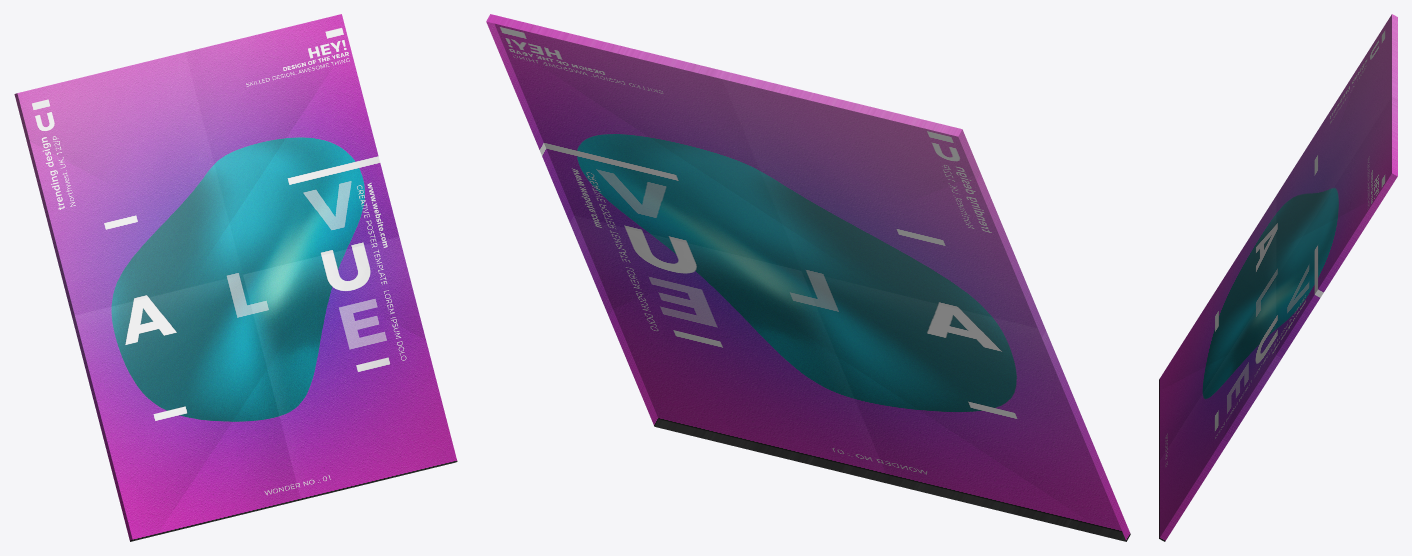
Rendered from SM_Magazine_01.fbx.
3 views of the same model, side by side, from view 1: azimuth 30°, elevation 25°; view 2: azimuth 150°, elevation 25°; view 3: azimuth 270°, elevation 25° (orthographic). The views are drawn at different scales.
Parts seen in each view (by area): view 1: SM_Magazine_01; view 2: SM_Magazine_01; view 3: SM_Magazine_01.
Part boxes in pixels (<box>): SM_Magazine_01: <box>14,14,457,541</box>; SM_Magazine_01: <box>486,14,1130,541</box>; SM_Magazine_01: <box>1159,14,1397,541</box>.
Size of the model in its own units: 37.62 by 40.58 by 23.82.
Materials: 1 (1 with a texture image).
